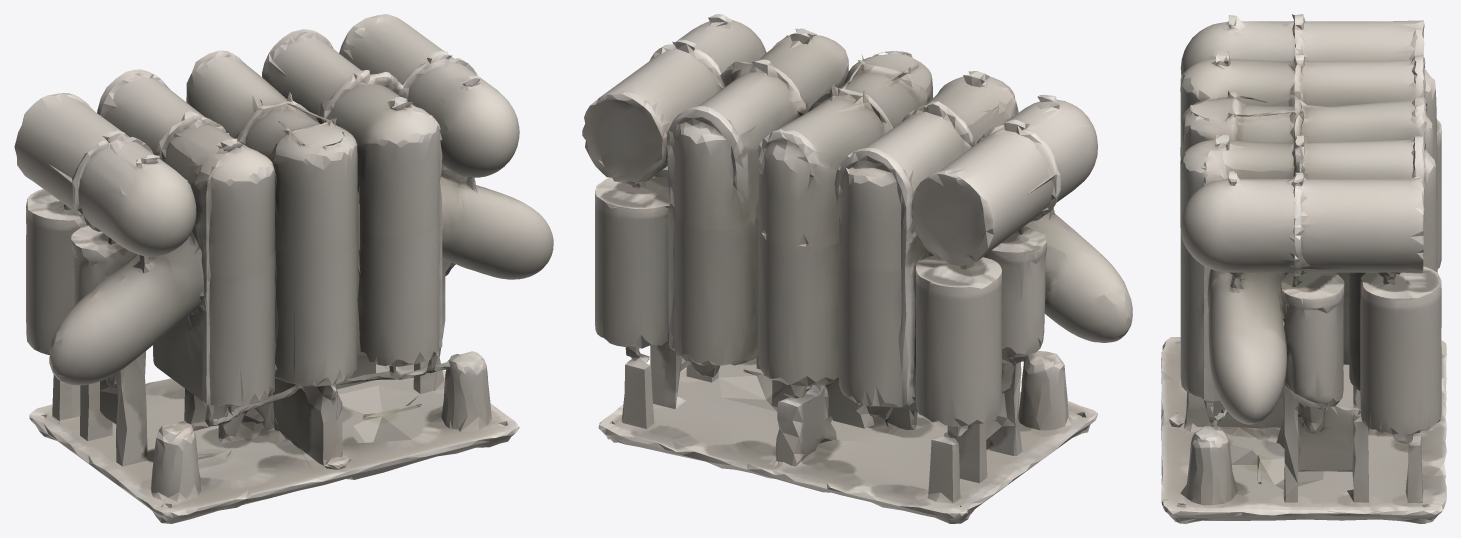
File: titan_weapon_secondary.glb
The picture shows the model from 3 angles, left to right: view 1: azimuth 30°, elevation 25°; view 2: azimuth 150°, elevation 25°; view 3: azimuth 270°, elevation 25°; orthographic projection. The views are drawn at different scales.
Parts seen in each view (by area): view 1: titan_weapon_secondary; view 2: titan_weapon_secondary; view 3: titan_weapon_secondary.
Boxes of the visible parts, bbox=[...] form: titan_weapon_secondary: bbox=[14, 14, 553, 523]; titan_weapon_secondary: bbox=[582, 14, 1132, 523]; titan_weapon_secondary: bbox=[1161, 14, 1446, 523].
Size of the model in its own units: 1.9 by 1.26 by 0.944.
1 material, 1 textured.
